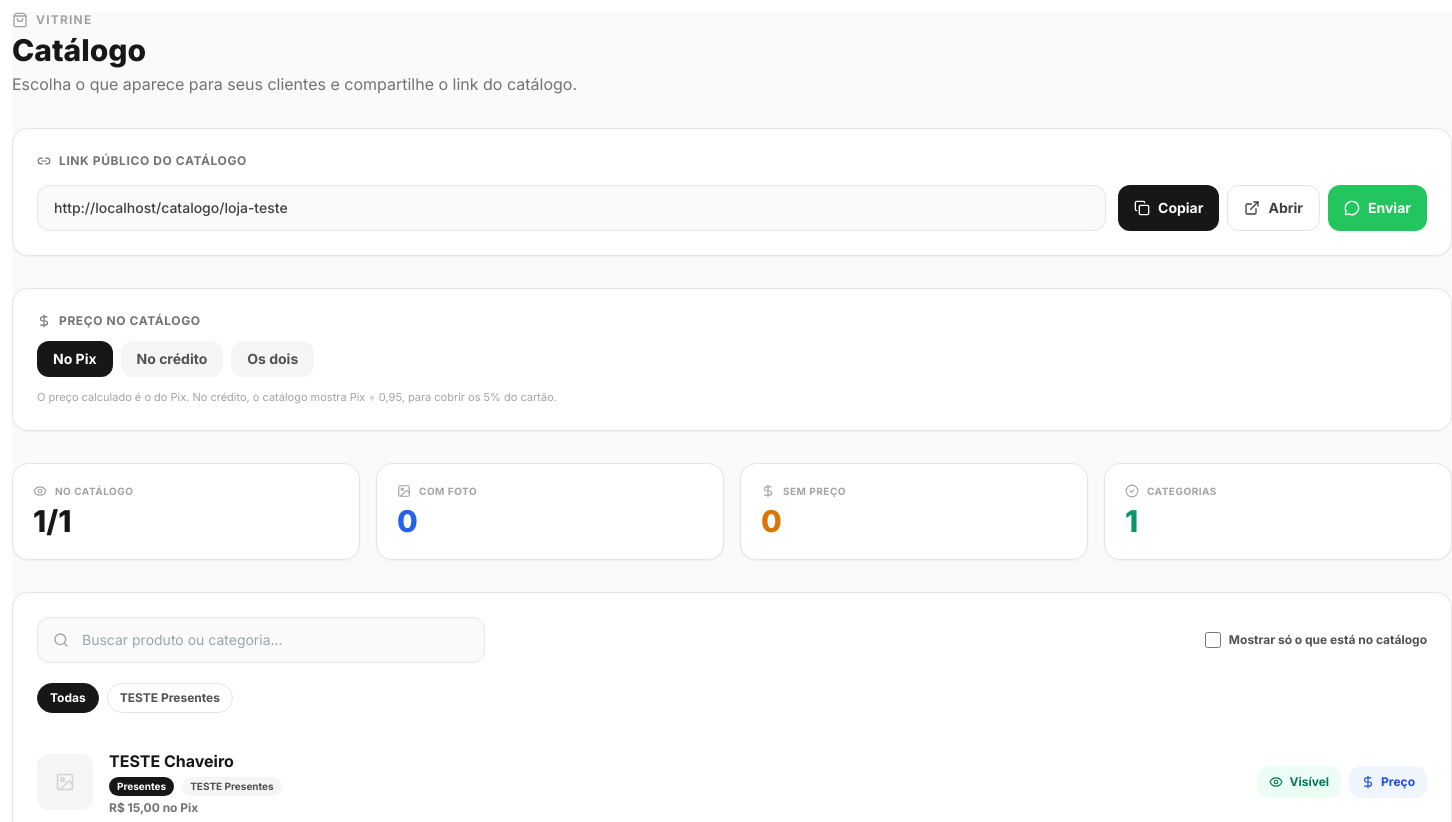
Test: Catálogo: preço no Pix, no crédito ou os dois › a tela Catálogo grava a opção no documento da loja
Click the button "Os dois" at (273, 359), box [231,341,314,377]
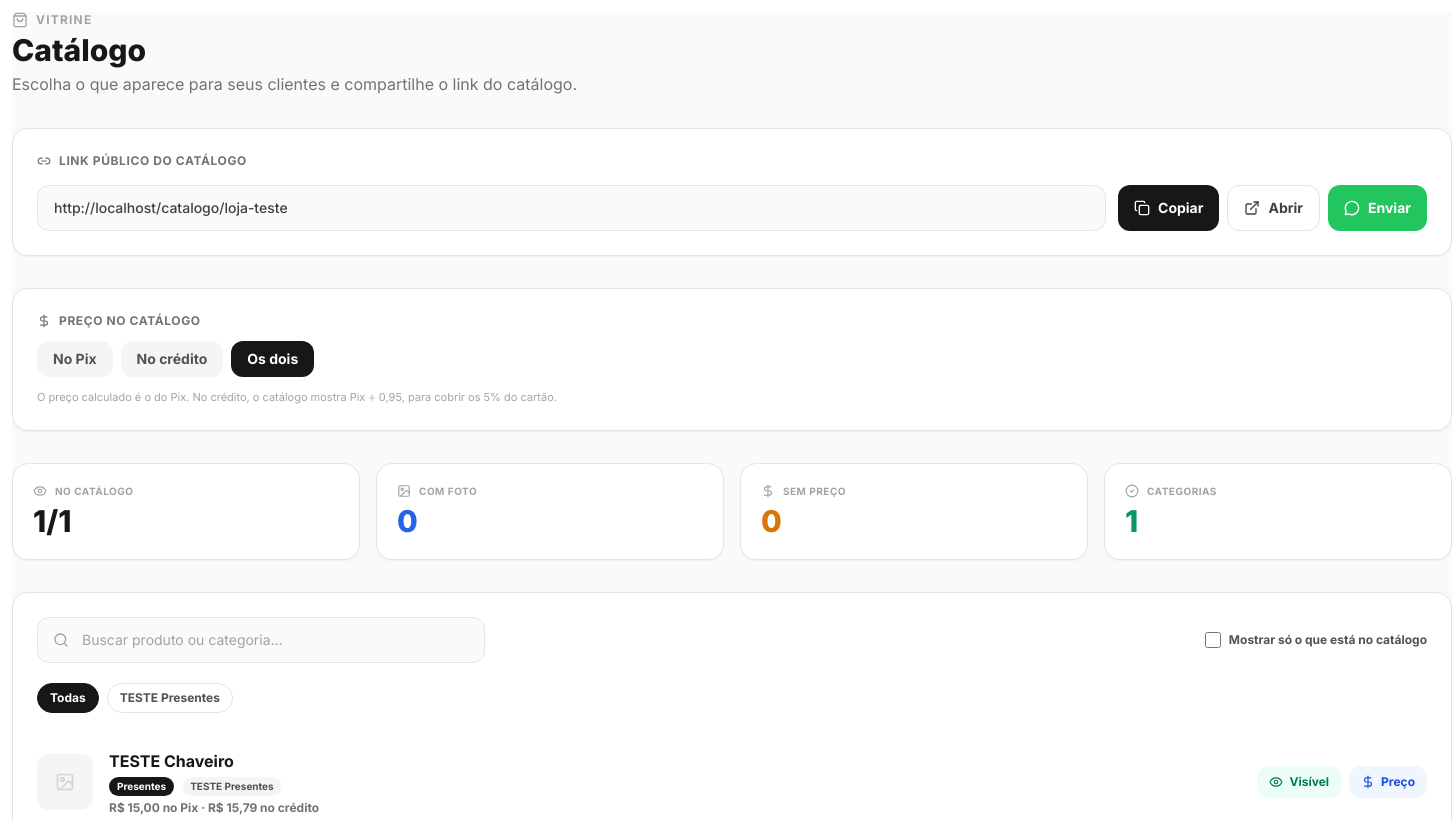
Check: the text "R$ 15,00 no Pix · R$ 15,79 no crédito" is shown, box [109,800,319,814]
